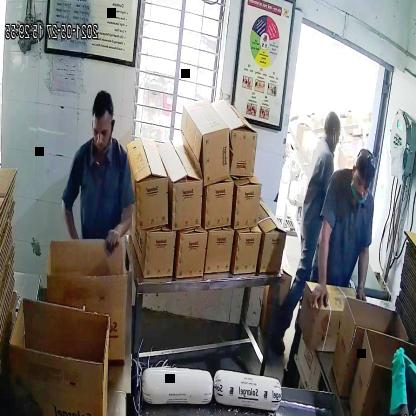no_goggles: (88, 117, 120, 142), (348, 170, 376, 197)
